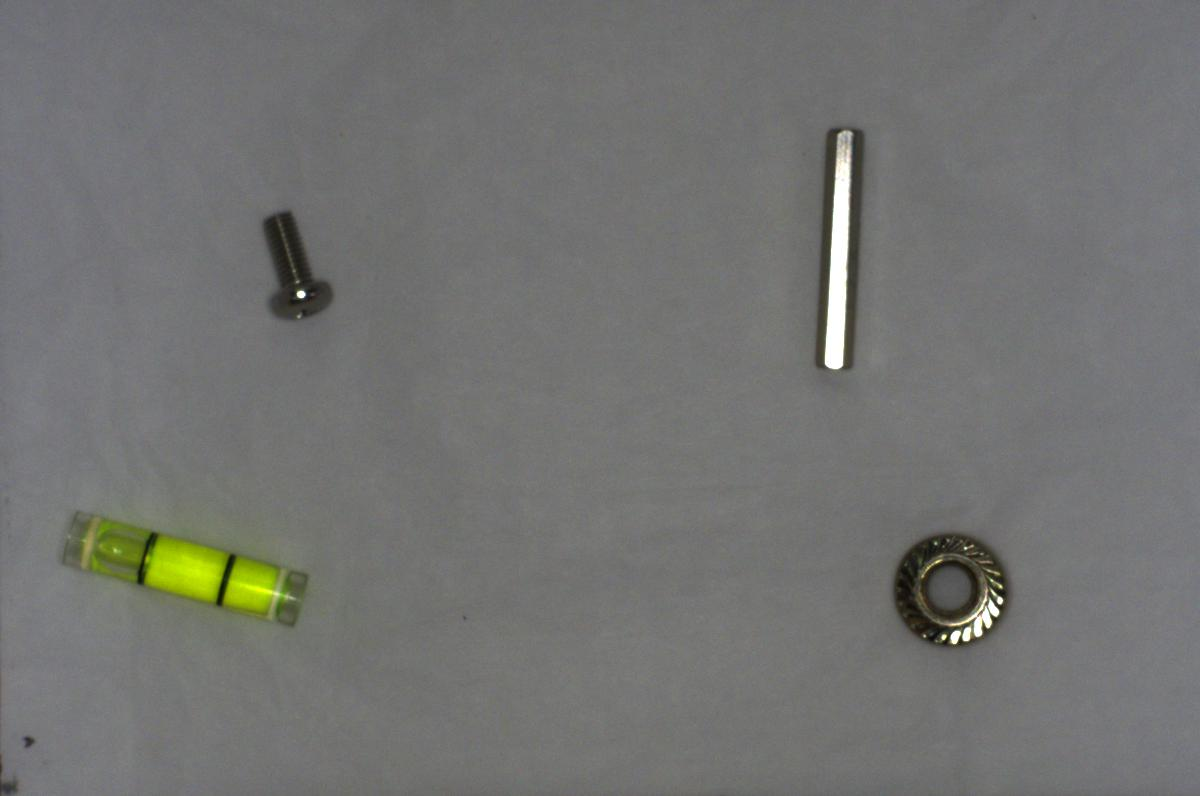Double hexagonal column: (806, 122, 874, 374)
Flange nut: (884, 523, 1014, 648)
Horizontal bubble: (55, 498, 310, 630)
Round head screw: (254, 205, 335, 322)
